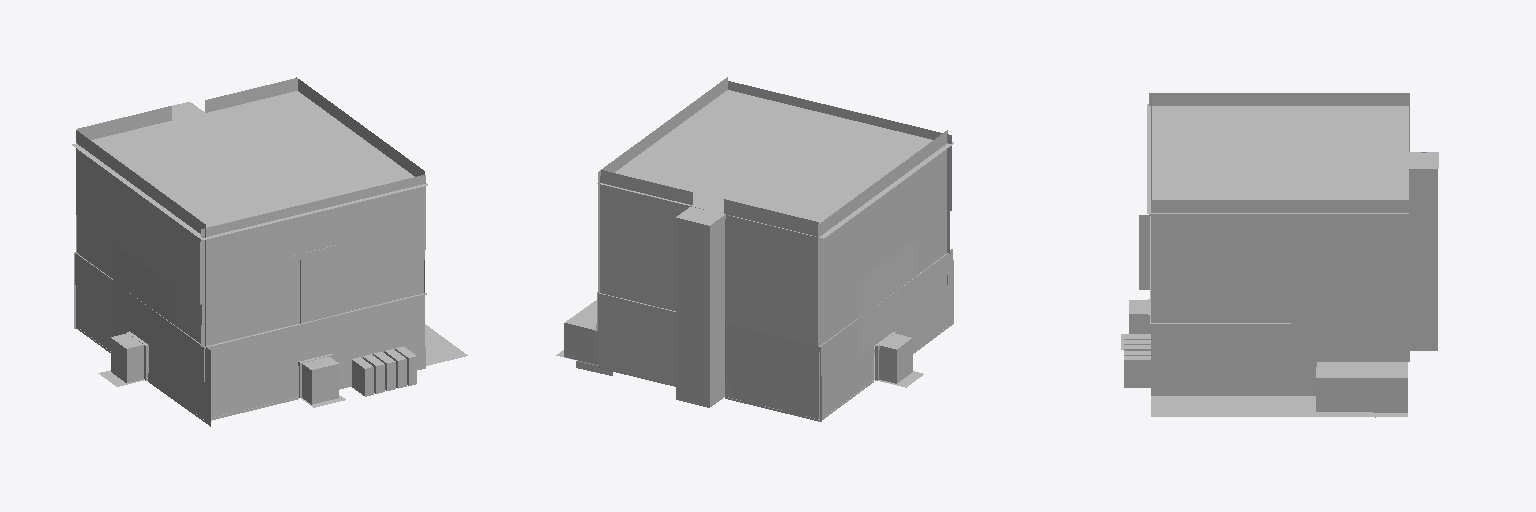
File: Jimmy Split Final.obj
3 renders of one model, left to right at view 1: azimuth 30°, elevation 25°; view 2: azimuth 150°, elevation 25°; view 3: azimuth 270°, elevation 25°, orthographic.
Parts seen in each view (by area): view 1: Walls_Plane.029_Plane.001, Ceiling_Plane.029_Plane.000, Plane.029_Plane.020, Plane.029_Plane.043, Plane.029_Plane.138; view 2: Walls_Plane.029_Plane.001, Ceiling_Plane.029_Plane.000, Stairwell_Walls_Plane.029_Plane.002, Plane.029_Plane.020; view 3: Walls_Plane.029_Plane.001, Ceiling_Plane.029_Plane.000, Plane.029_Plane.020, Stairwell_Walls_Plane.029_Plane.002, Plane.029_Plane.043.
Boxes of the visible parts, x1=… form: Walls_Plane.029_Plane.001: x1=74, y1=77, x2=425, y2=426; Ceiling_Plane.029_Plane.000: x1=72, y1=91, x2=427, y2=239; Plane.029_Plane.020: x1=98, y1=102, x2=416, y2=407; Plane.029_Plane.043: x1=80, y1=324, x2=467, y2=419; Plane.029_Plane.138: x1=76, y1=253, x2=426, y2=348; Walls_Plane.029_Plane.001: x1=596, y1=77, x2=953, y2=421; Ceiling_Plane.029_Plane.000: x1=597, y1=90, x2=953, y2=238; Stairwell_Walls_Plane.029_Plane.002: x1=676, y1=215, x2=724, y2=407; Plane.029_Plane.020: x1=564, y1=207, x2=923, y2=387; Walls_Plane.029_Plane.001: x1=1139, y1=93, x2=1409, y2=395; Ceiling_Plane.029_Plane.000: x1=1147, y1=104, x2=1408, y2=213; Plane.029_Plane.020: x1=1121, y1=152, x2=1438, y2=412; Stairwell_Walls_Plane.029_Plane.002: x1=1409, y1=152, x2=1437, y2=350; Plane.029_Plane.043: x1=1151, y1=396, x2=1407, y2=416.
Size of the model in its own units: 25.11 by 17.59 by 23.29.